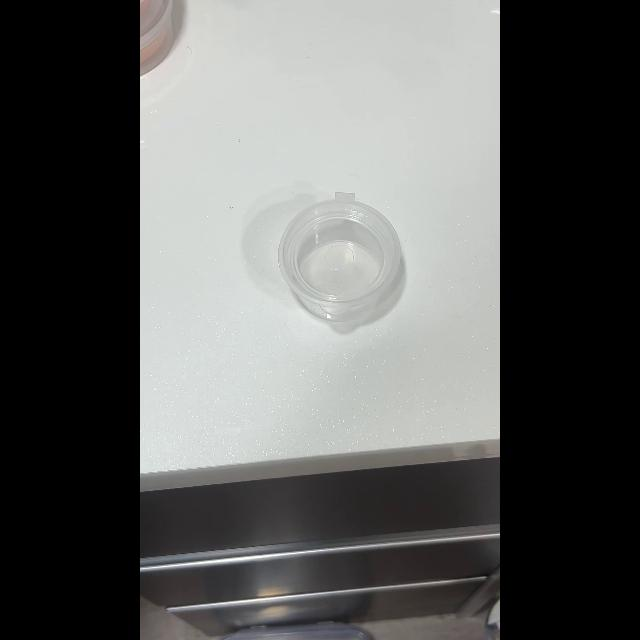clean: (278, 194, 404, 322)
